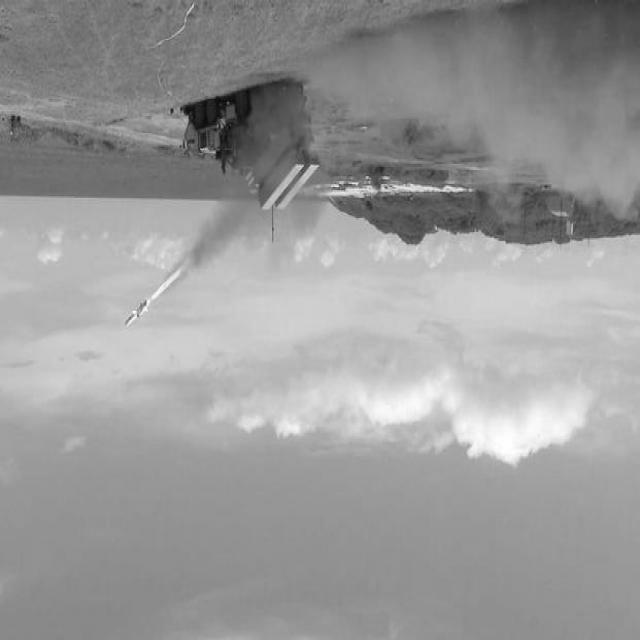missile: (121, 296, 154, 328)
